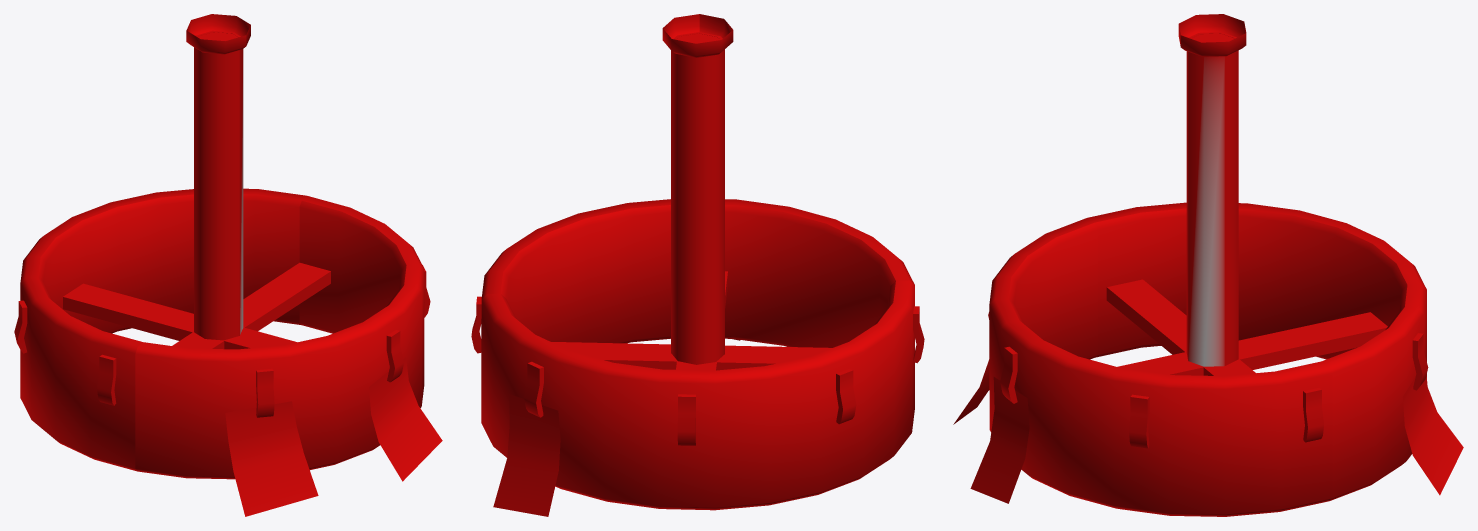
Rendered from KK_Kitch_Orders.fbx.
3 renders of one model, left to right at view 1: azimuth 30°, elevation 25°; view 2: azimuth 150°, elevation 25°; view 3: azimuth 270°, elevation 25°, orthographic. The views are drawn at different scales.
Visible parts, largest first — view 1: SM_KrustyKrab_Order_Wheel_01_14; view 2: SM_KrustyKrab_Order_Wheel_01_14; view 3: SM_KrustyKrab_Order_Wheel_01_14.
Part boxes in pixels (x1,y1,x2,y2): SM_KrustyKrab_Order_Wheel_01_14: (14,14,442,516); SM_KrustyKrab_Order_Wheel_01_14: (471,14,924,516); SM_KrustyKrab_Order_Wheel_01_14: (953,14,1463,516).
Bounding box in the file's own units: 62.05 × 65.68 × 71.98.
